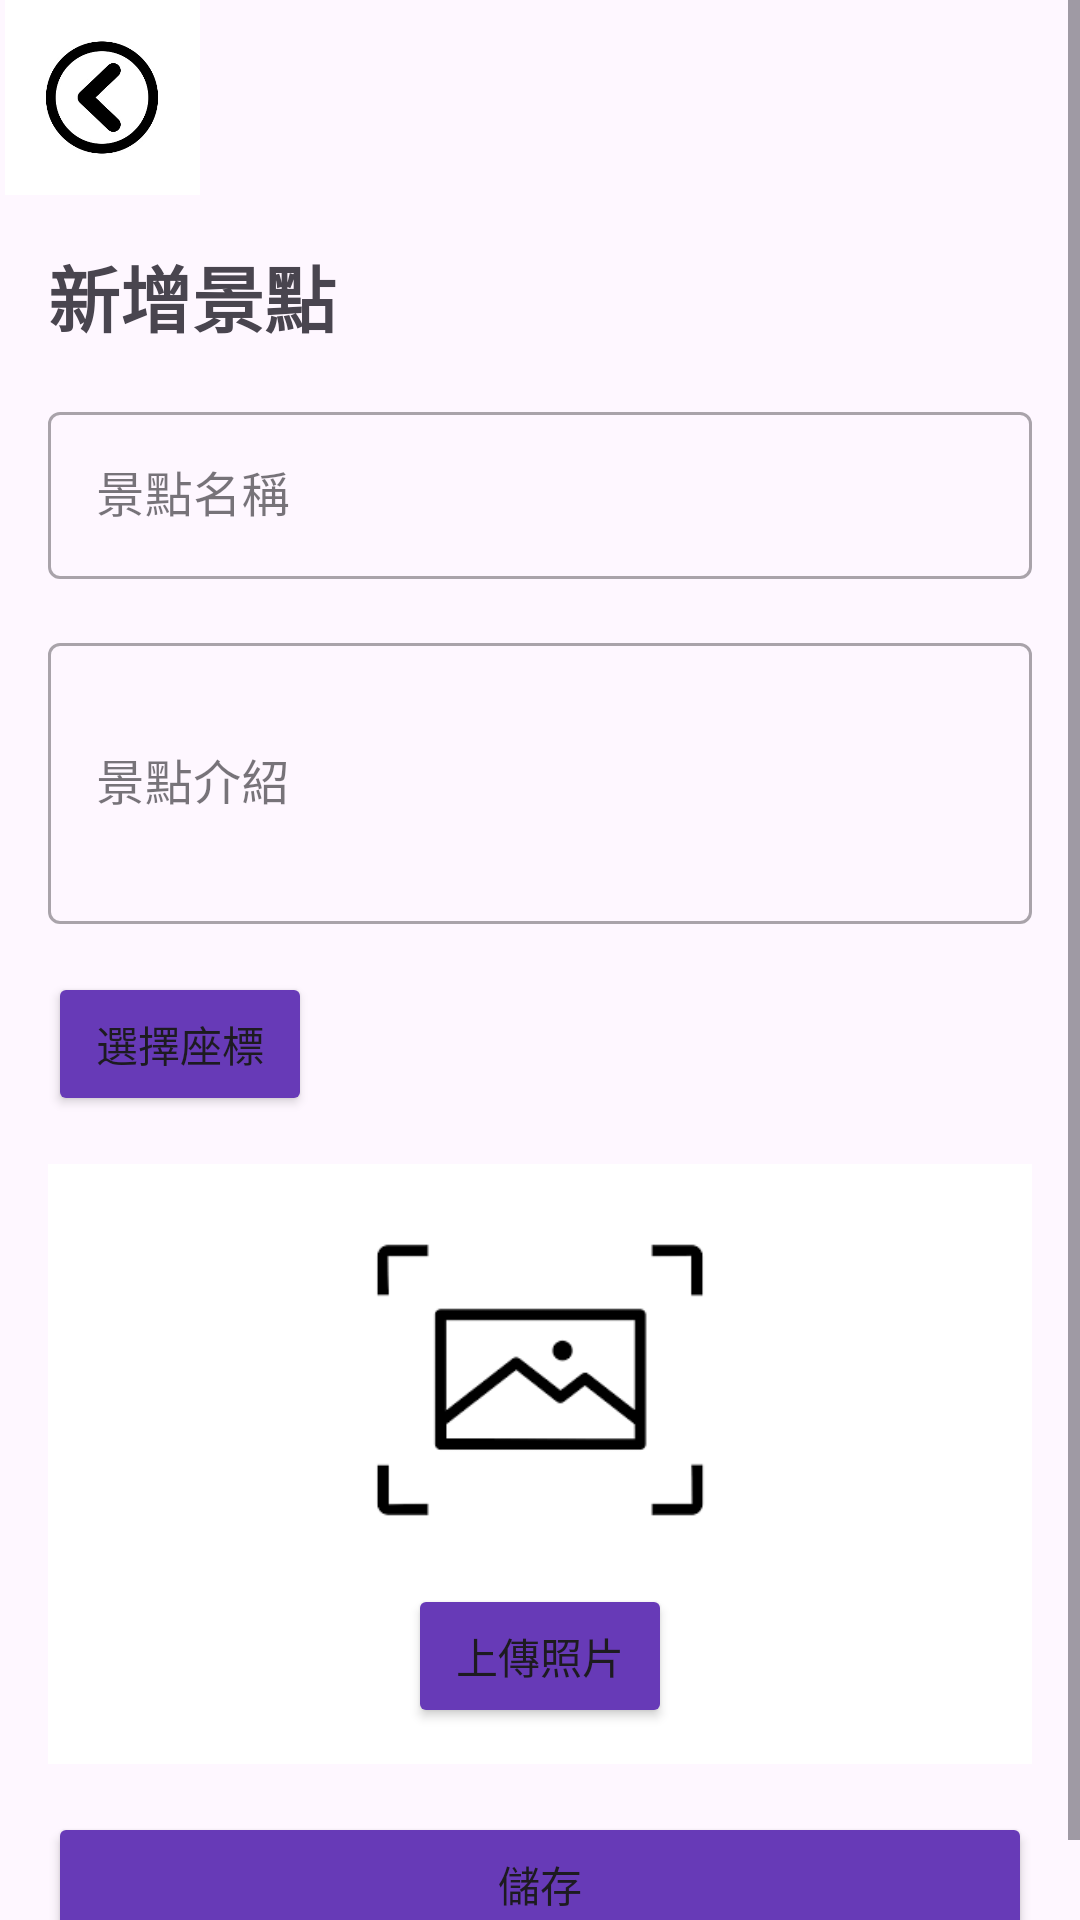

Screen size 1080px×1920px. Icon name, then its box in pixels as (x1, y1, x2, y2):
返回: (46, 41, 158, 154)
